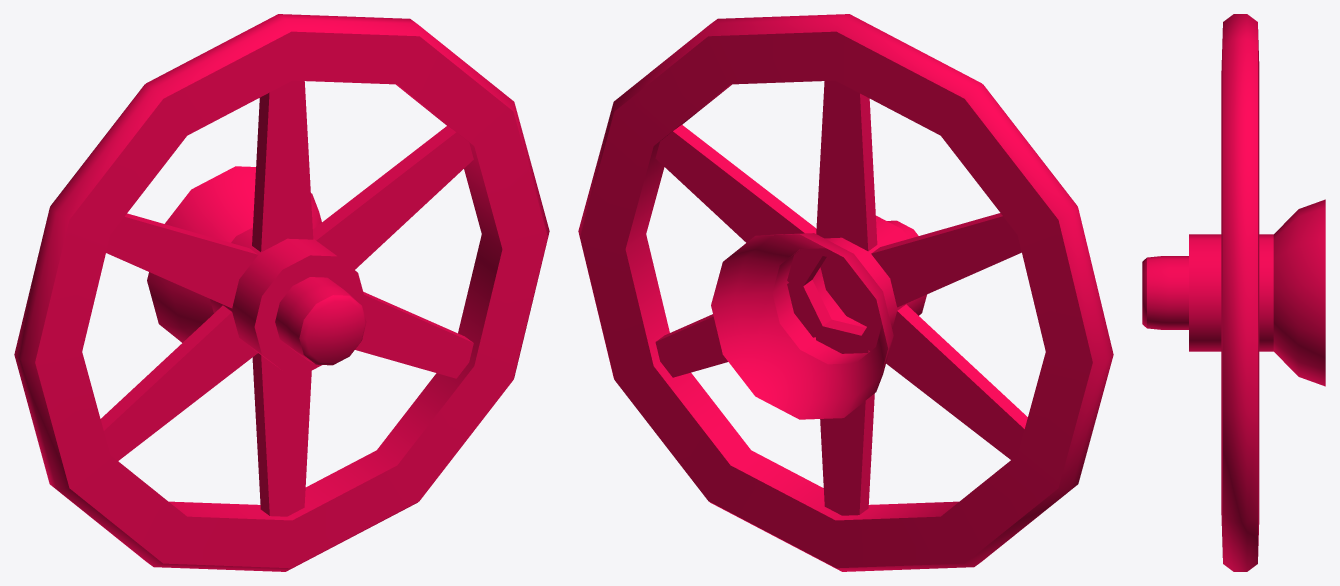
The model's file is pipe_valve.FBX.
3 views of the same model, side by side, from view 1: azimuth 30°, elevation 25°; view 2: azimuth 150°, elevation 25°; view 3: azimuth 270°, elevation 25° (orthographic). The views are drawn at different scales.
Parts seen in each view (by area): view 1: pipe_valve; view 2: pipe_valve; view 3: pipe_valve.
Boxes of the visible parts, x1,y1,x2,y2 form: pipe_valve: (14, 14, 549, 571); pipe_valve: (578, 14, 1113, 571); pipe_valve: (1142, 14, 1325, 571).
Bounding box in the file's own units: 8.18 × 8.18 × 2.68.
